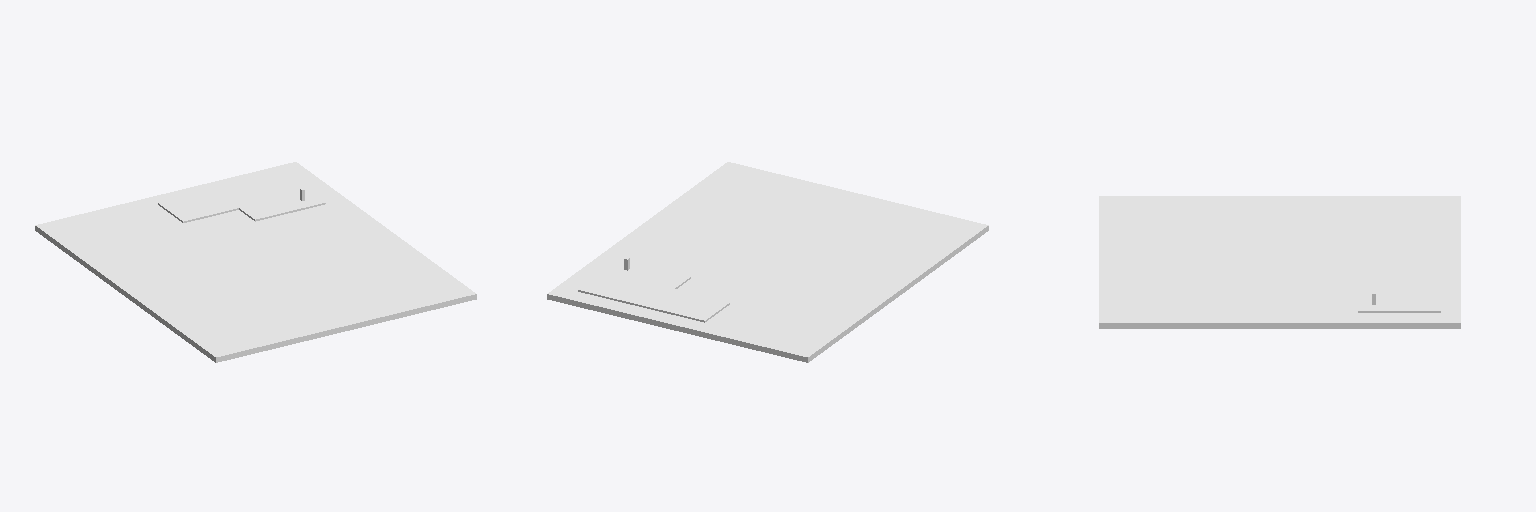
The model's file is sity_1.vox.obj.
3 renders of one model, left to right at view 1: azimuth 30°, elevation 25°; view 2: azimuth 150°, elevation 25°; view 3: azimuth 270°, elevation 25°, orthographic.
Visible parts, largest first — view 1: object 1; view 2: object 1; view 3: object 1.
Boxes of the visible parts, <box> form: object 1: <box>35,162,476,362</box>; object 1: <box>547,162,988,362</box>; object 1: <box>1099,196,1460,328</box>.
Size of the model in its own units: 15 by 1 by 18.